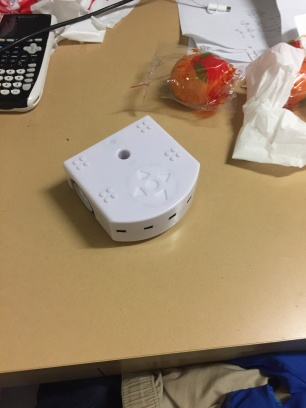thymio: (57, 109, 209, 250)
